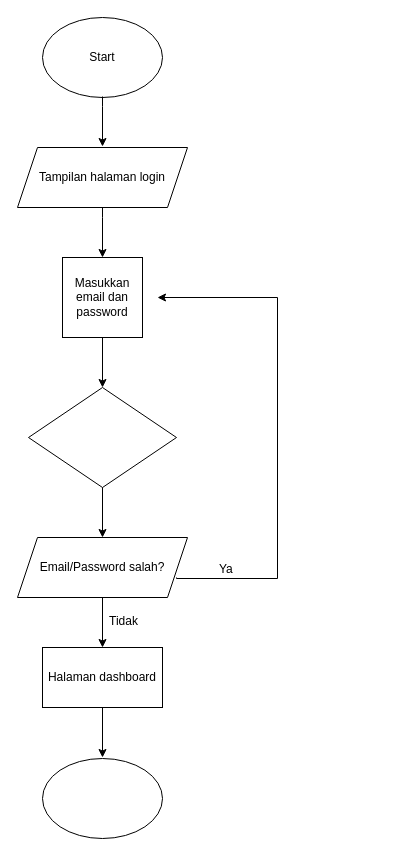
This 415x856 diagram has some shape labels left out. Each missing label, with the centre of its shape:
"Periksa email dan password" goes at (x=102, y=437).
"Selesai" goes at (x=102, y=798).
